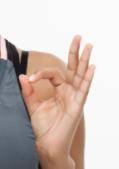left: (21, 32, 101, 143)
